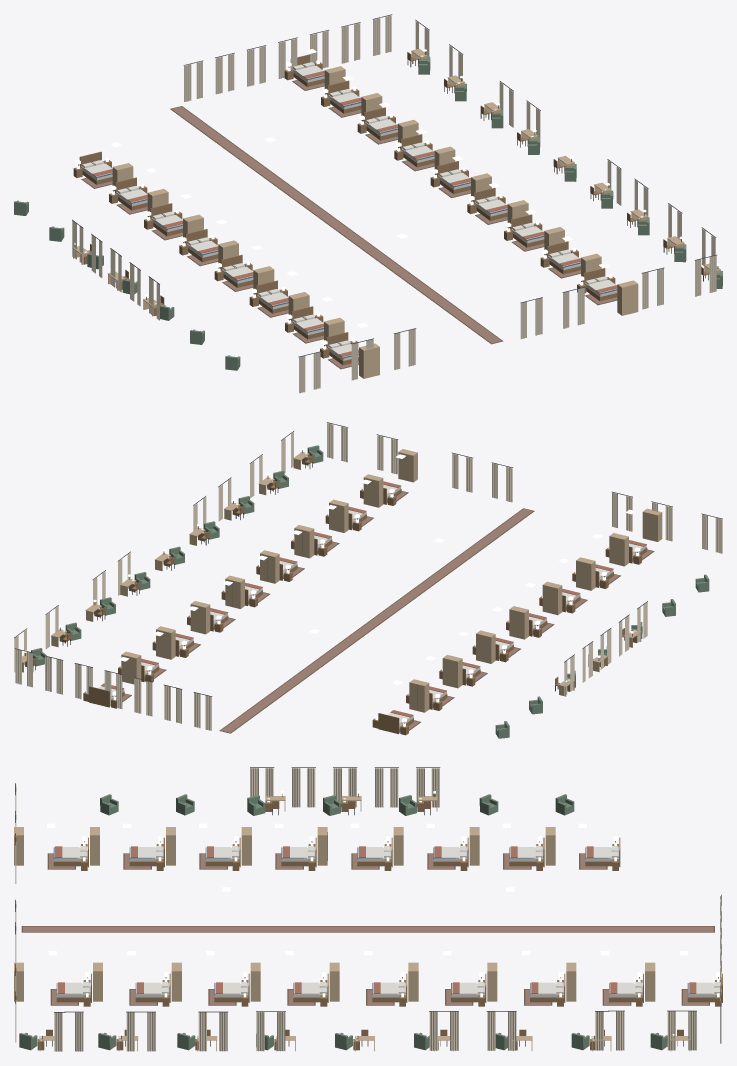
The model's file is fine-s1.glb.
The picture shows the model from 3 angles, top to bottom: view 1: azimuth 30°, elevation 25°; view 2: azimuth 150°, elevation 25°; view 3: azimuth 270°, elevation 25°; orthographic projection. The views are drawn at different scales.
Parts seen in each view (by area): view 1: soft-s1, dresser.016, dresser.007; view 2: soft-s1, dresser.000, dresser.001, dresser.004, dresser.007, dresser.010, dresser.013, dresser.015, dresser.005, dresser.006, dresser.003, dresser.002 (+6 smaller); view 3: soft-s1.
Boxes of the visible parts, bbox=[...] form: soft-s1: bbox=[72, 14, 716, 393]; dresser.016: bbox=[617, 280, 638, 315]; dresser.007: bbox=[359, 343, 379, 378]; soft-s1: bbox=[14, 422, 722, 733]; dresser.000: bbox=[409, 679, 429, 712]; dresser.001: bbox=[442, 655, 462, 688]; dresser.004: bbox=[542, 581, 562, 615]; dresser.007: bbox=[642, 508, 662, 541]; dresser.010: bbox=[190, 601, 210, 634]; dresser.013: bbox=[294, 525, 314, 558]; dresser.015: bbox=[363, 474, 383, 507]; dresser.005: bbox=[576, 557, 595, 590]; dresser.006: bbox=[609, 533, 628, 566]; dresser.003: bbox=[509, 606, 528, 639]; dresser.002: bbox=[476, 630, 495, 663]; soft-s1: bbox=[15, 767, 721, 1051].
Size of the model in its own units: 34.54 by 2.66 by 42.24.
